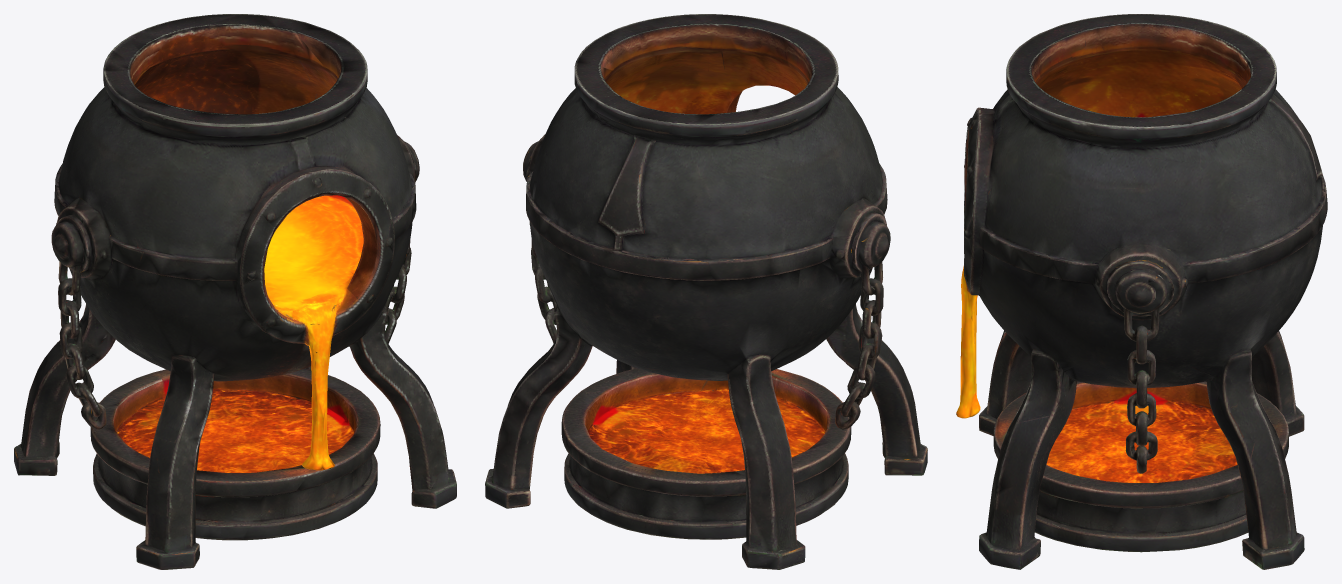
Rendered from tlc_upgrad01.source.glb.
3 renders of one model, left to right at view 1: azimuth 30°, elevation 25°; view 2: azimuth 150°, elevation 25°; view 3: azimuth 270°, elevation 25°, orthographic. The views are drawn at different scales.
Parts seen in each view (by area): view 1: Mesh_0; view 2: Mesh_0; view 3: Mesh_0.
Part boxes in pixels (x1,y1,x2,y2): Mesh_0: (14, 14, 456, 569); Mesh_0: (485, 14, 927, 569); Mesh_0: (956, 14, 1327, 569).
Bounding box in the file's own units: 0.5503 × 0.6 × 0.4794.
Materials: 1 (1 with a texture image).
